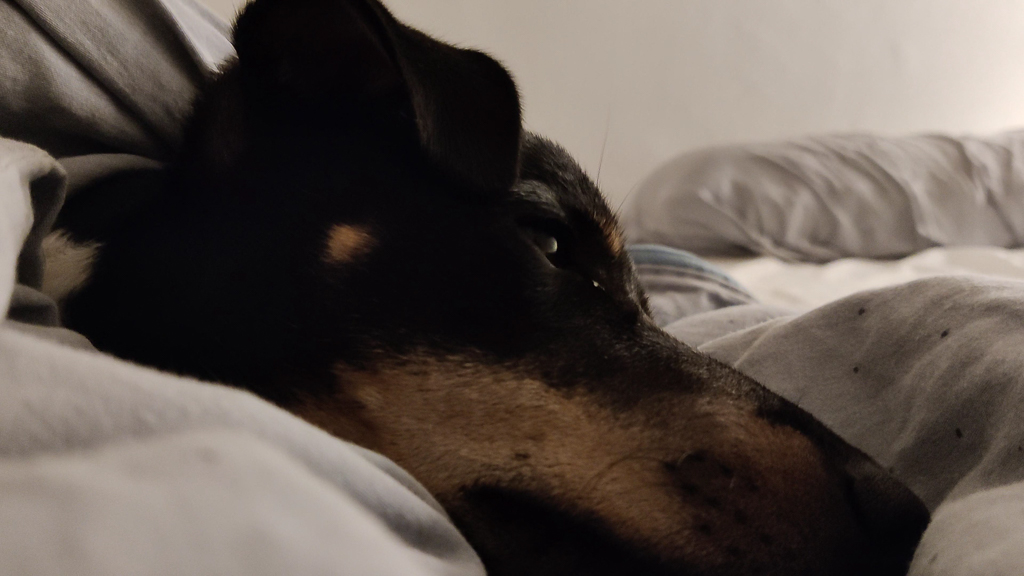Dog: (26, 0, 942, 576)
